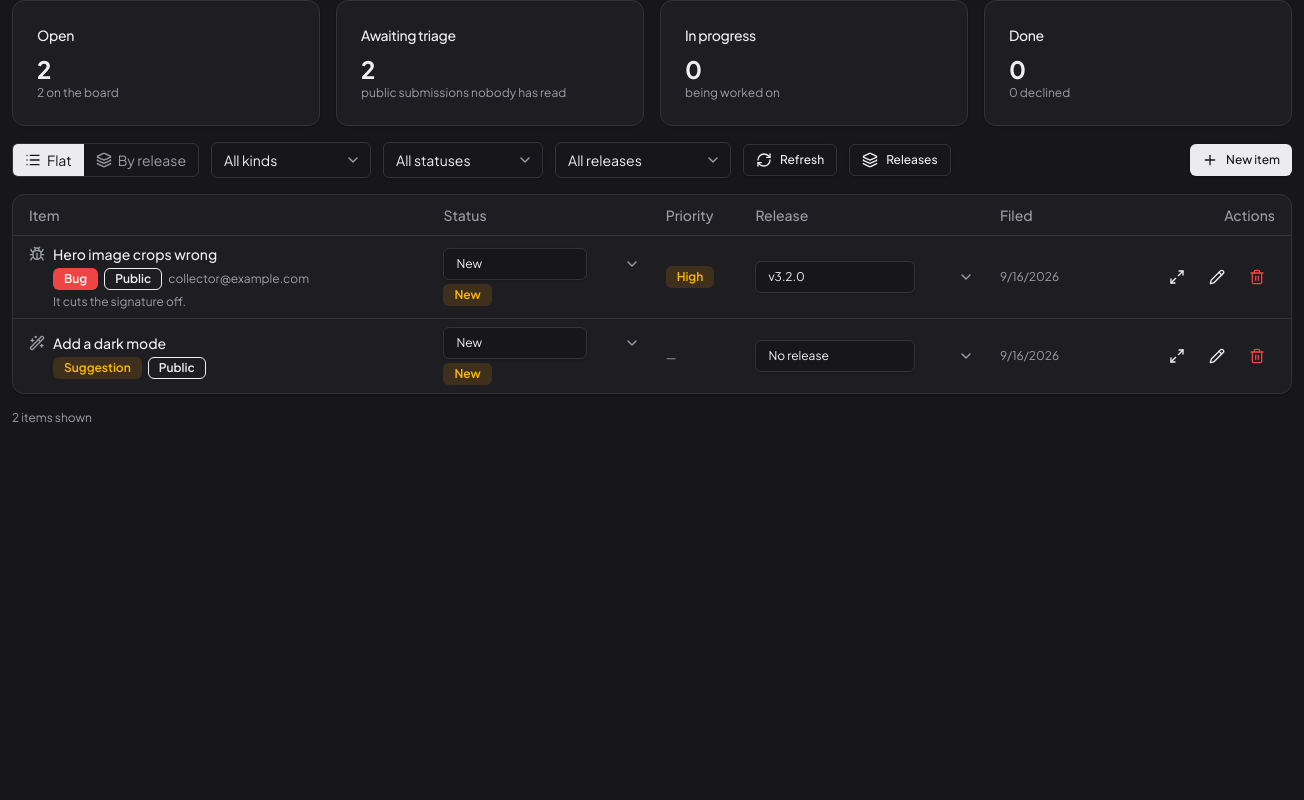
Test case: PlanningView — grouping › groups by release, and keeps a bucket for the unfiled
Expected: the button "Hero image crops wrong" is shown, [53, 244, 217, 264]
Click the button "By release".
click(141, 160)  # box [84, 144, 198, 176]
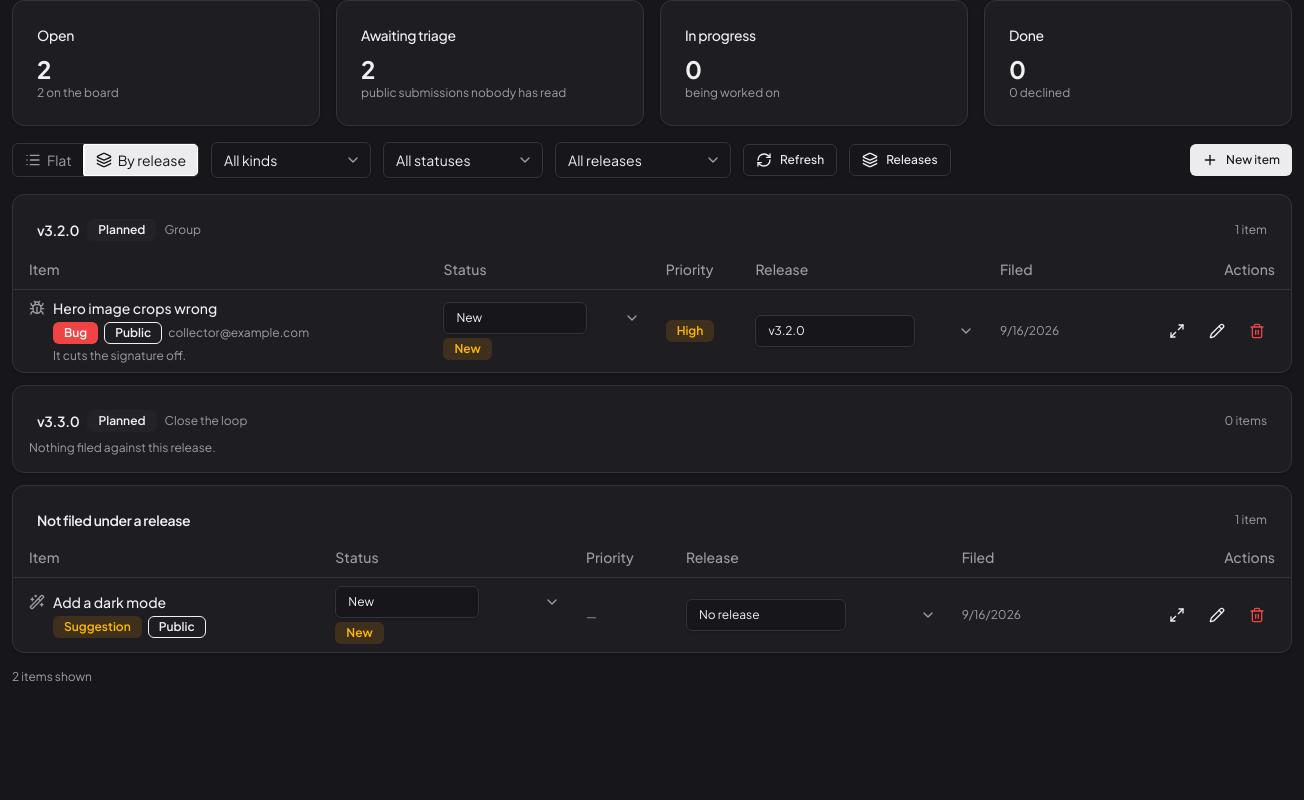
Now the text "Not filed under a release" is shown, box [37, 510, 190, 530]
Now the text "Nothing filed against this release." is shown, box [29, 440, 216, 454]
